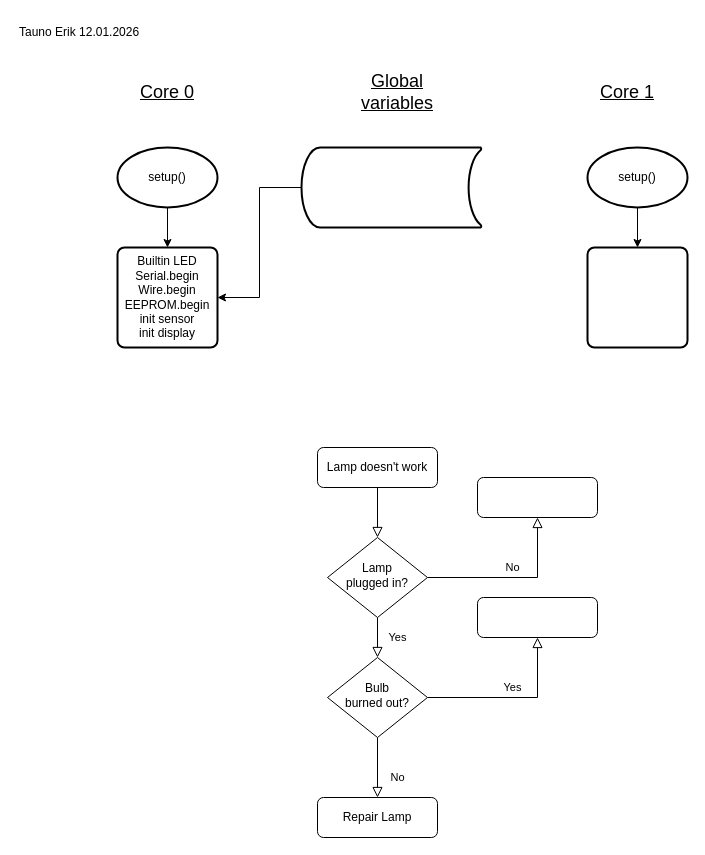
The diagram is 705 pixels wide and 855 high, and some of its shapes have lost their labels. Each missing label, with the box of its shape:
init encoders init LED init signal OUT: (586, 246, 688, 348)
Plug in lamp: (476, 476, 598, 518)
Replace Bulb: (476, 596, 598, 638)
uint distance int selected_value_min int selected_value_max: (300, 146, 482, 228)
